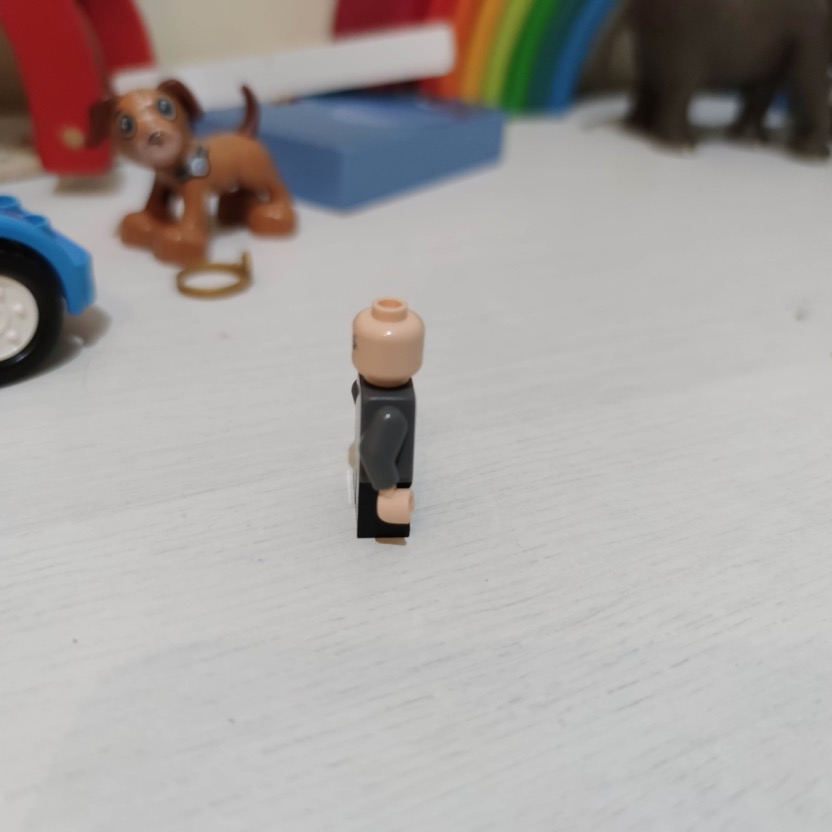lego: (349, 297, 427, 539)
